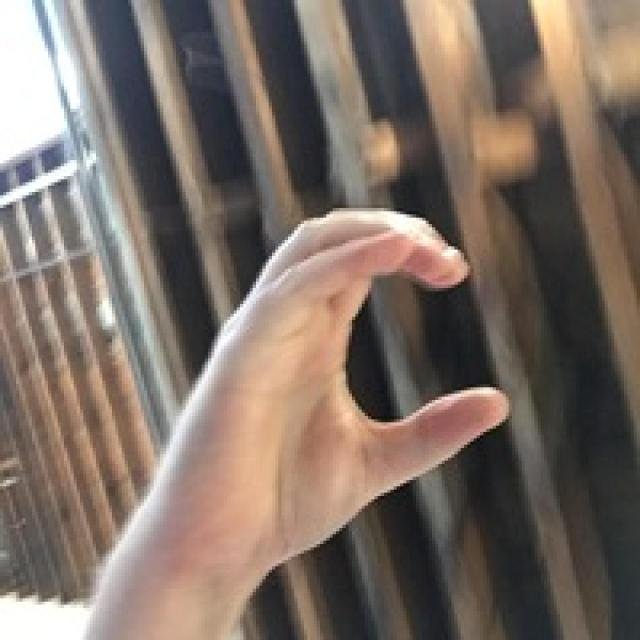C: (70, 138, 577, 614)
